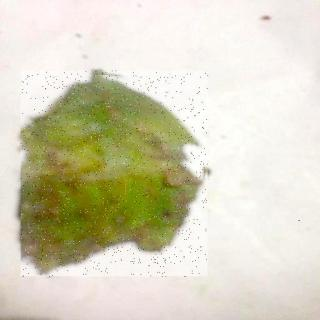Red Leaf Spot: (22, 72, 209, 278)
